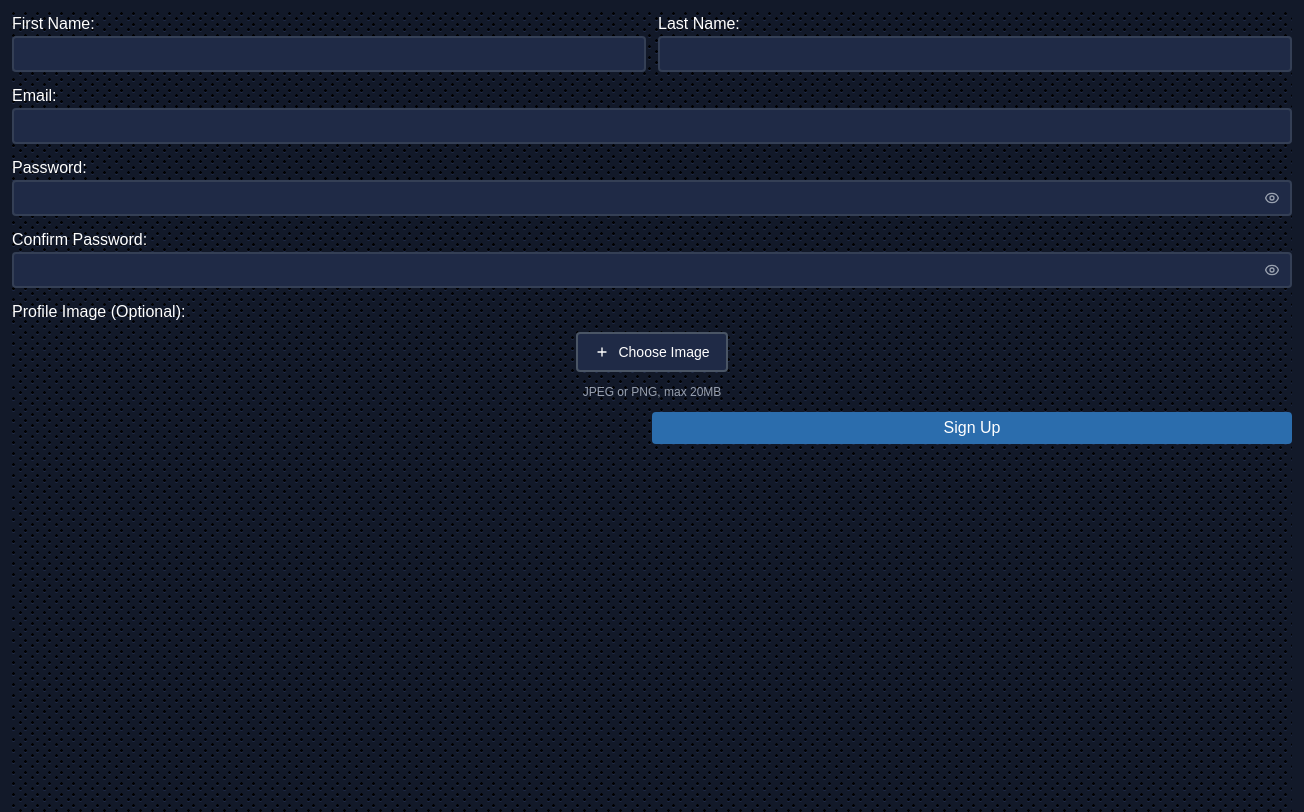
SignUpForm › submits form with valid input and shows success message
Type "John" into the field labelled "First Name:".
click(329, 54); type("John")  # box [12, 36, 646, 72]
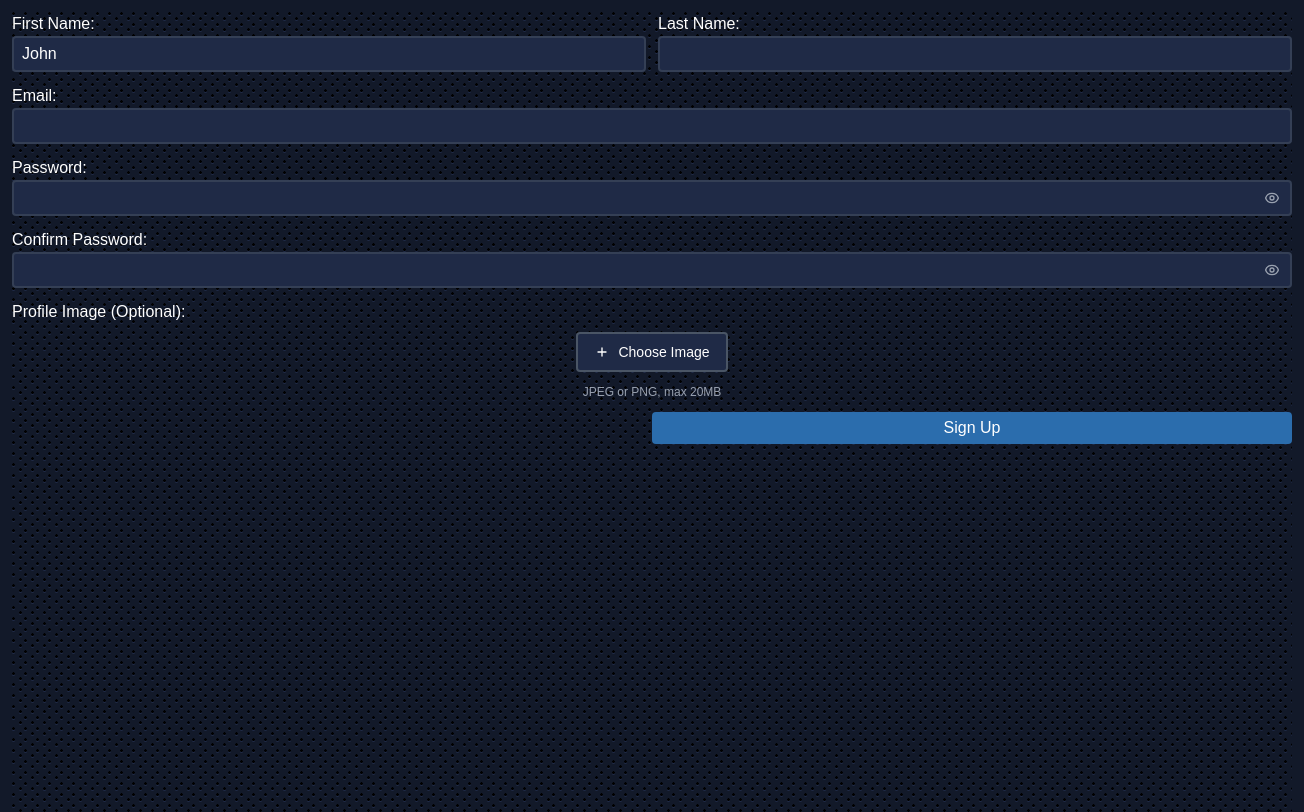
Type "Doe" into the field labelled "Last Name:".
click(975, 54); type("Doe")  # box [658, 36, 1292, 72]
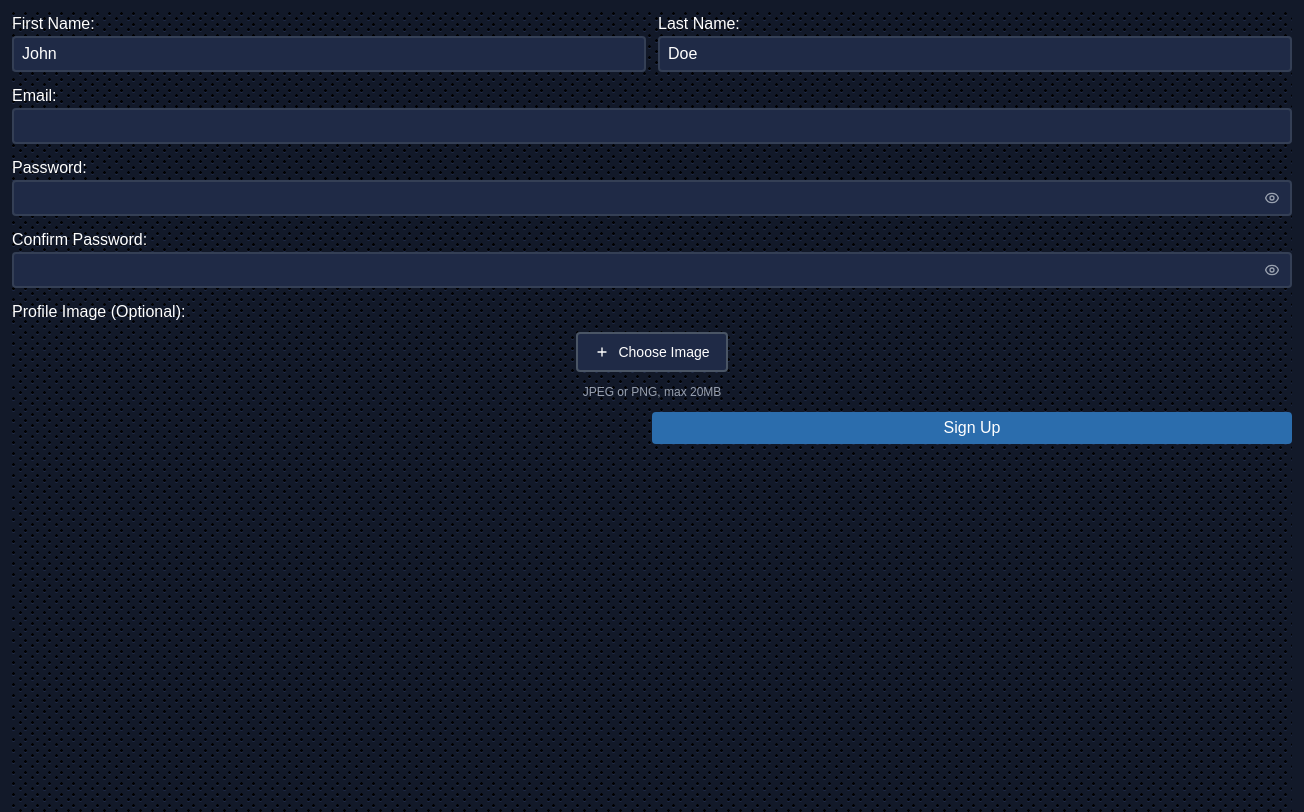
Type "test@example.com" into the field labelled "Email:".
click(652, 126); type("test@example.com")  # box [12, 108, 1292, 144]
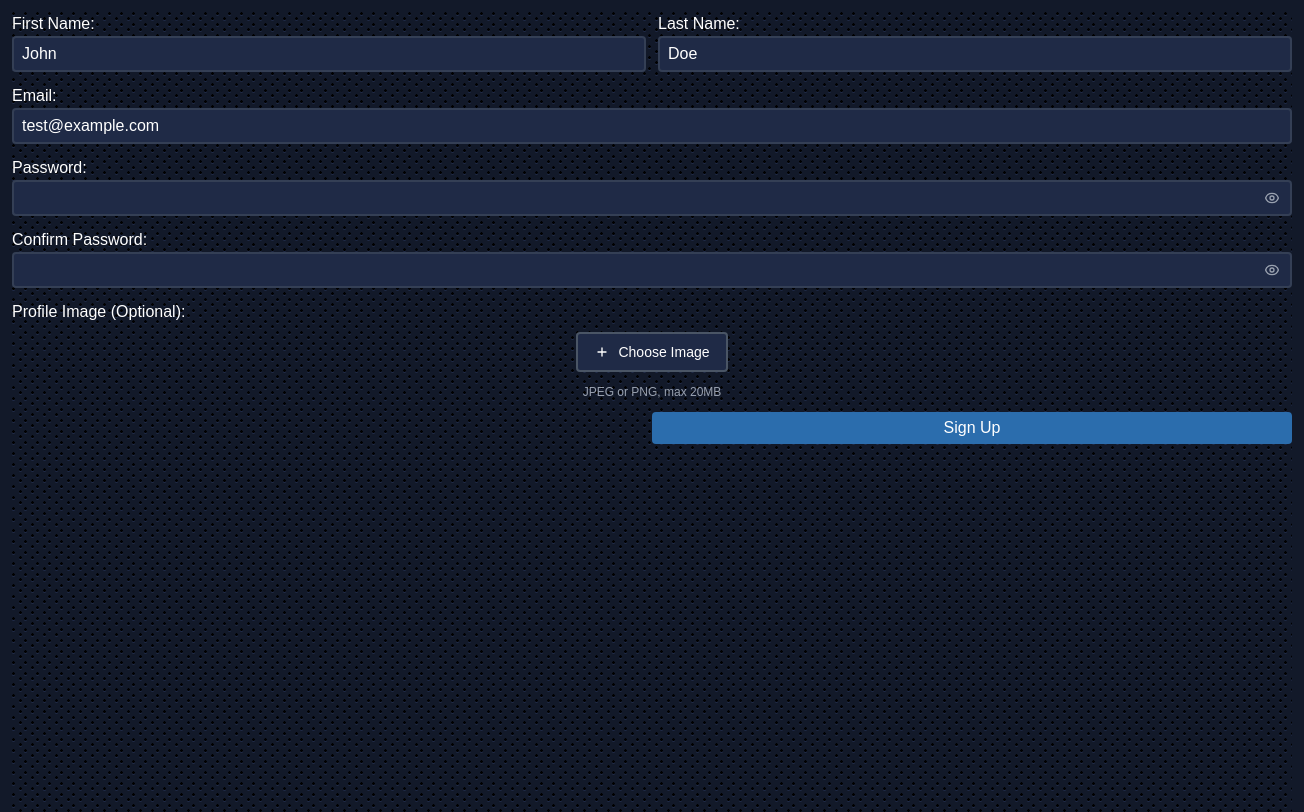
Type "secureP@ss123" into the password field labelled "Password:".
click(652, 198); type("secureP@ss123")  # box [12, 180, 1292, 216]
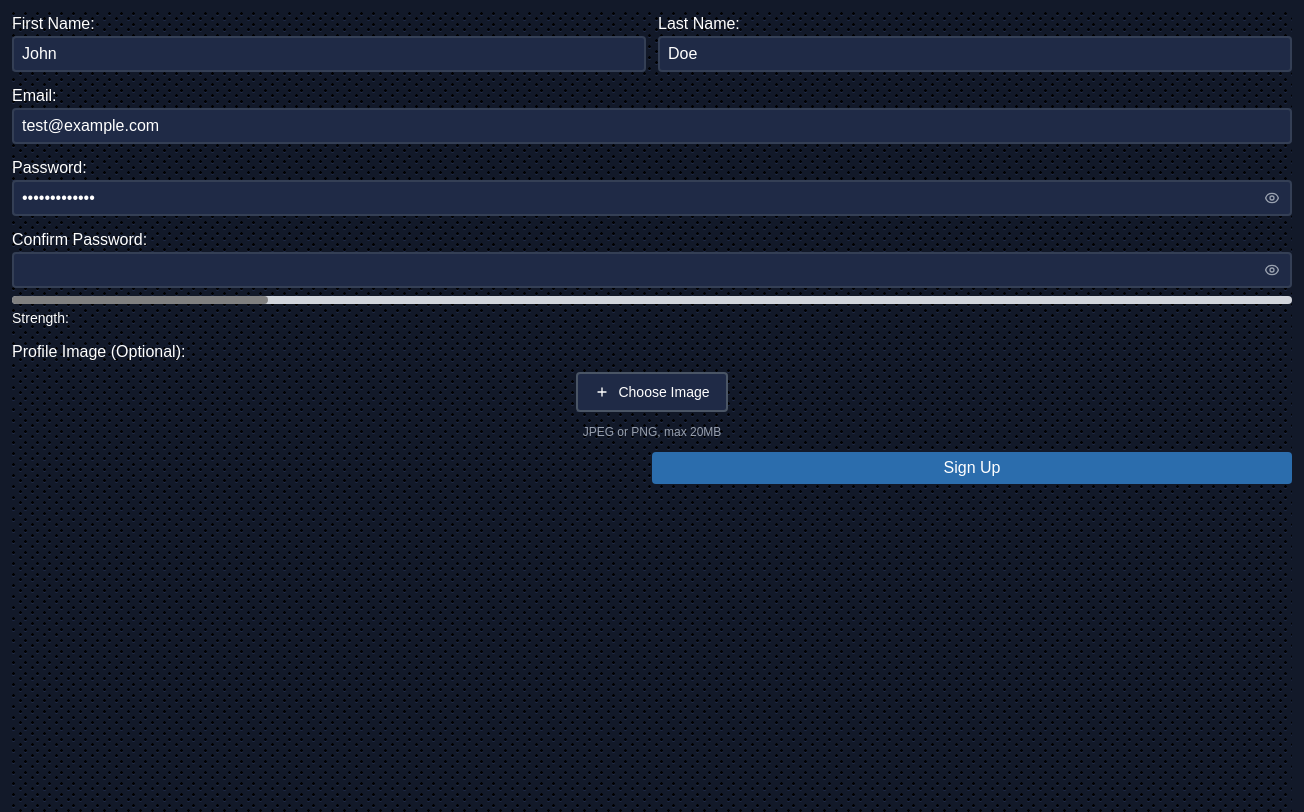
Type "secureP@ss123" into the password field labelled "Confirm Password:".
click(652, 270); type("secureP@ss123")  # box [12, 252, 1292, 288]
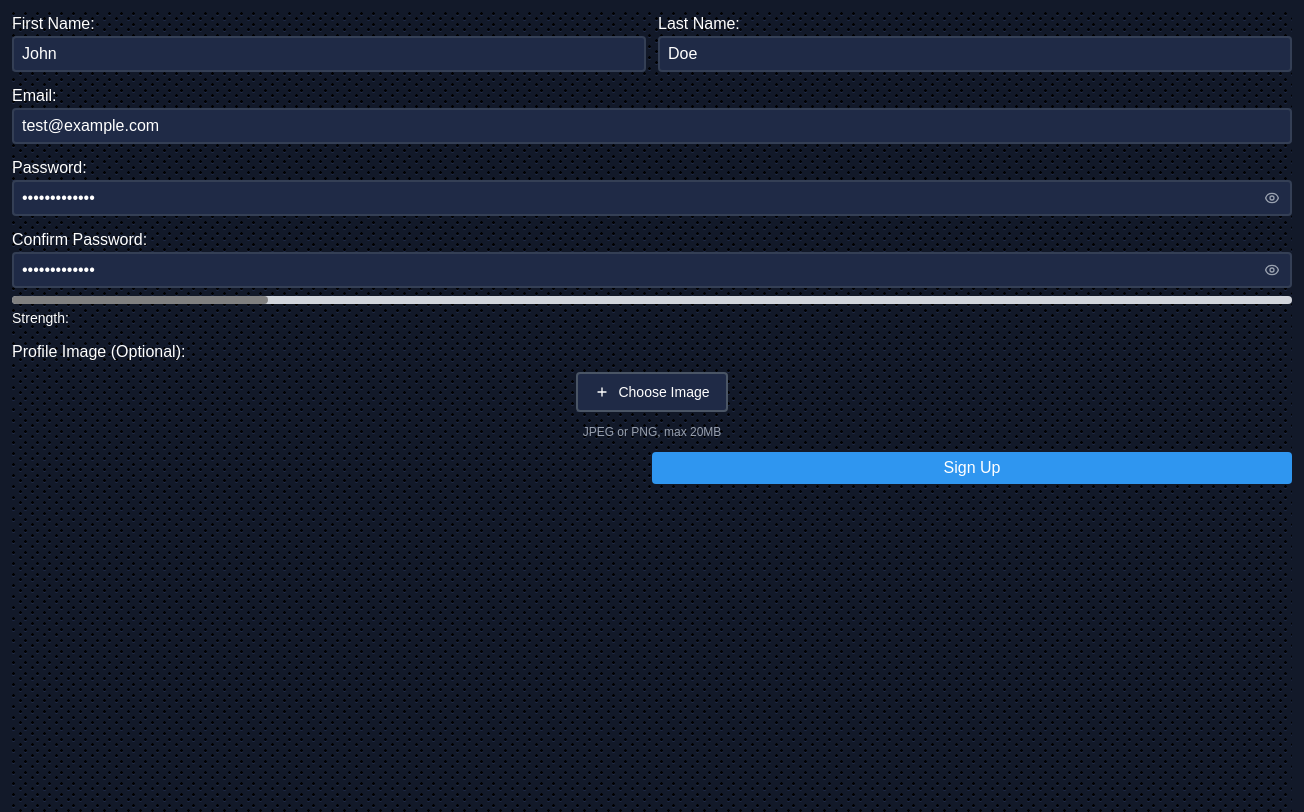
Click the button with aria-label "submit-signup".
click(972, 468)  # box [652, 452, 1292, 484]
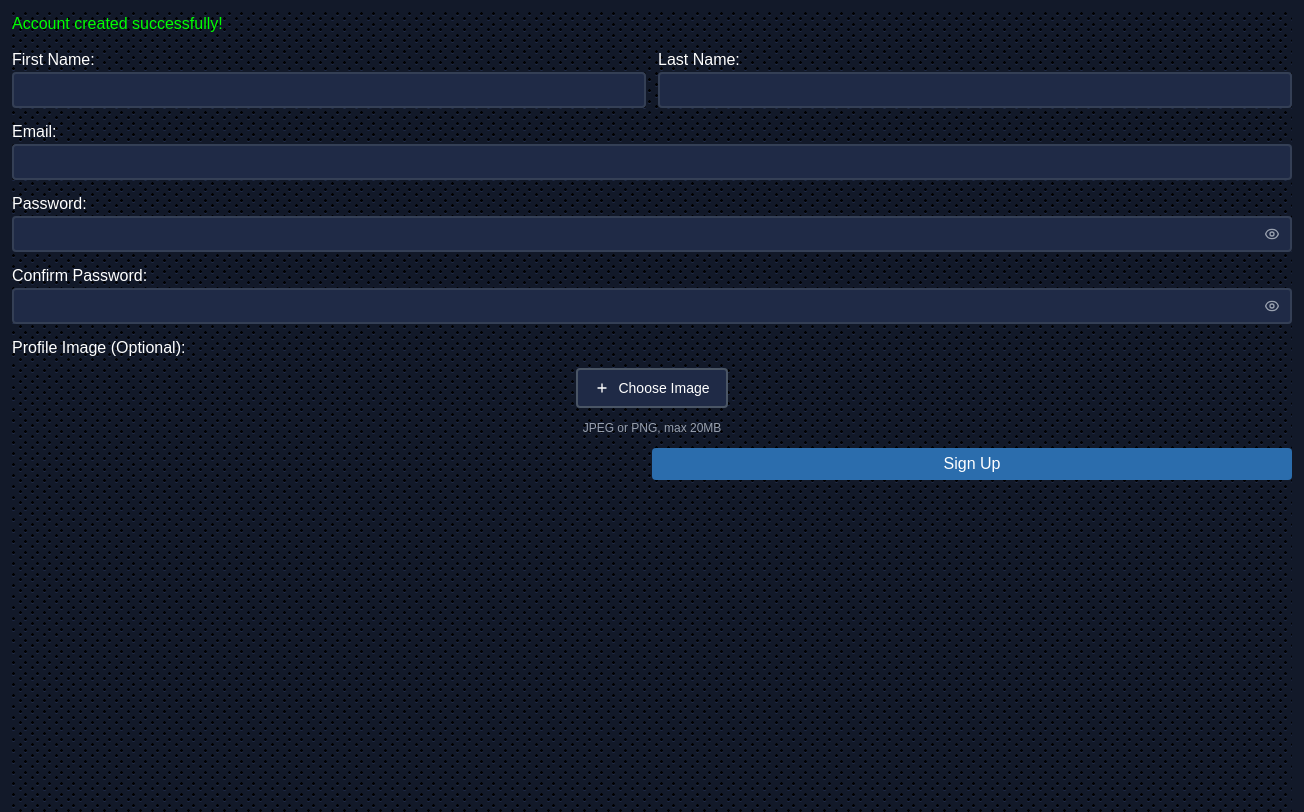
Now the text "Account created successfully!" is shown, box [12, 15, 223, 32]
